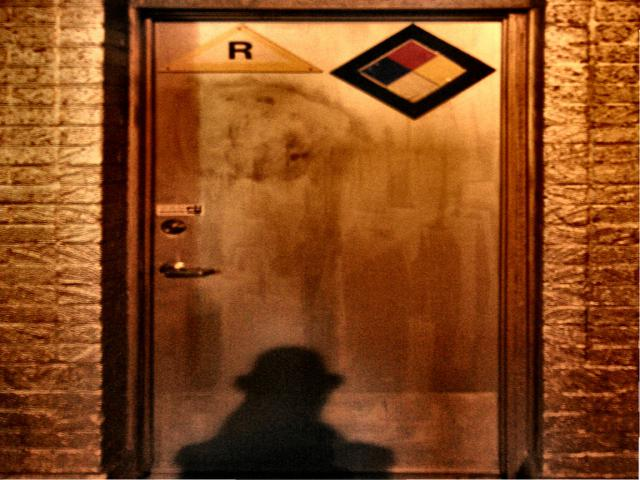Door-handle: (157, 259, 215, 278)
